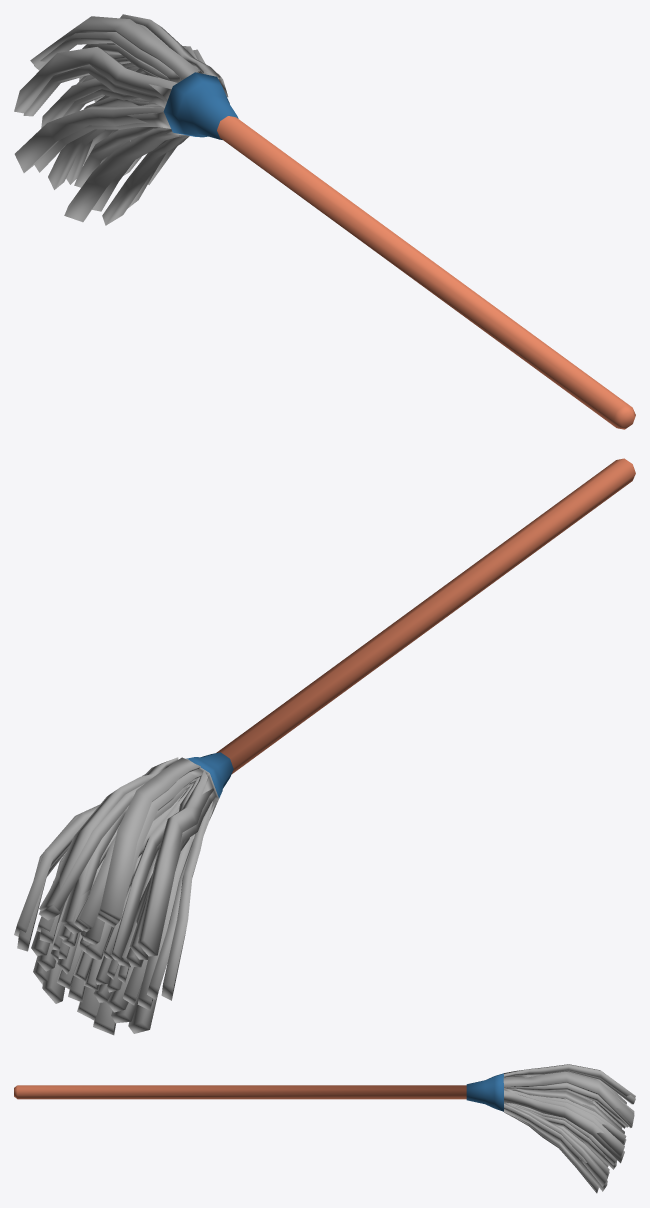
File: mop.glb
3 views of the same model, one above another, from view 1: azimuth 30°, elevation 25°; view 2: azimuth 150°, elevation 25°; view 3: azimuth 270°, elevation 25° (orthographic). The views are drawn at different scales.
Parts seen in each view (by area): view 1: mop; view 2: mop; view 3: mop.
Part boxes in pixels (<box>): mop: <box>14,14,635,429</box>; mop: <box>14,458,635,1035</box>; mop: <box>14,1064,635,1193</box>.
Size of the model in its own units: 0.2696 by 0.3732 by 1.66.
1 material, 1 textured.
